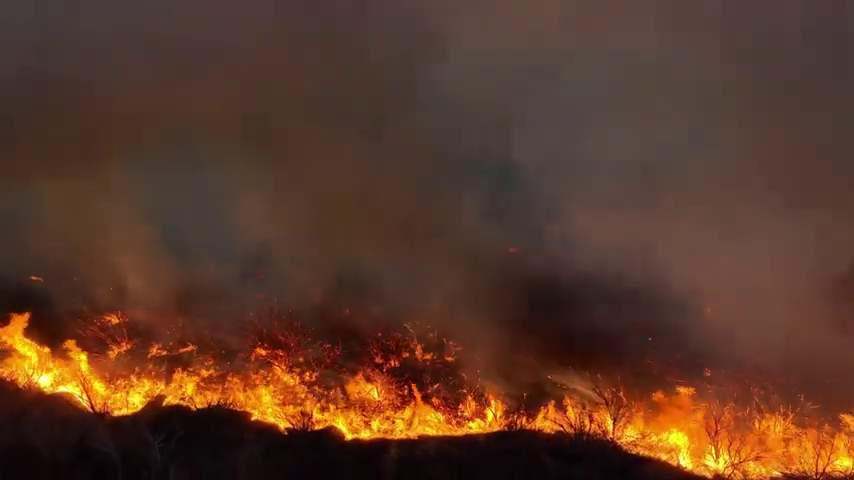forest_fire: (0, 314, 853, 476), (707, 371, 709, 374), (218, 350, 220, 351)
